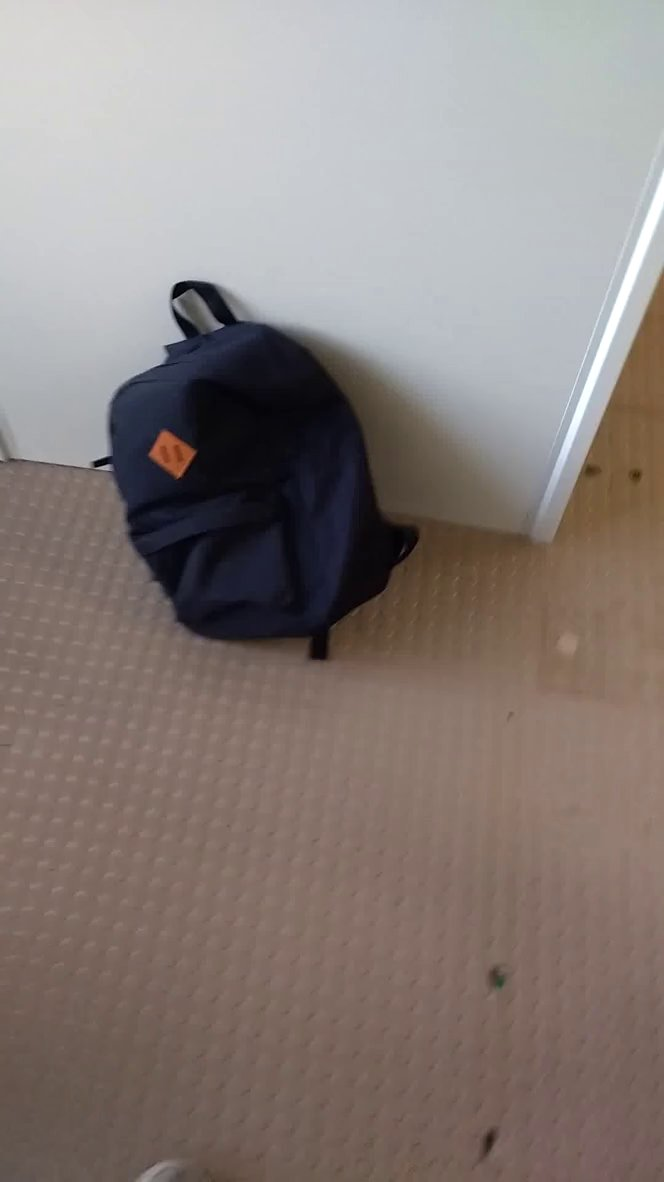bag: (73, 261, 469, 675)
